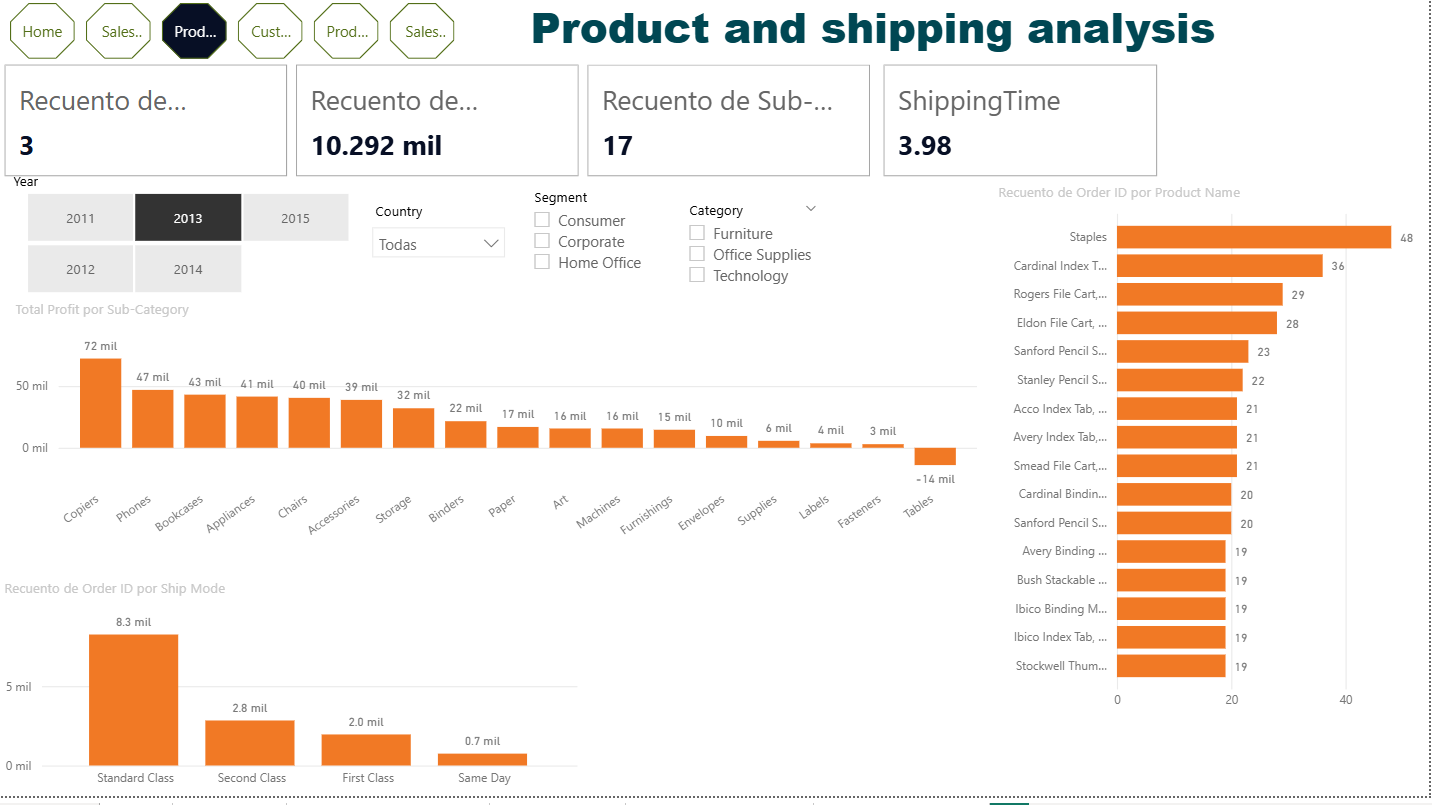

Layout of this report page (visuals, bound fields, positions):
{"tool":"powerbi","page":{"name":"Product and shipping analysis","canvas":[1280,720],"ordinal":2},"visuals":[{"type":"pageNavigator","box":[10,10,400,50],"z":0},{"type":"textbox","box":[471.2,0,629.9,158.7],"z":1000},{"type":"cardVisual","fields":{"Data":["Count(DIM_Product.Category)","CountNonNull(DIM_Product.Product_ID)","Count(DIM_Product.Sub-Category)"]},"box":[0,59.9,786.9,110.1],"z":2000},{"type":"cardVisual","fields":{"Data":["Avg(Fact_Sales.ShippimgTime)"]},"box":[786.9,59.9,255.8,110.1],"z":3000},{"type":"slicer","fields":{"Values":["Dim_SalesCalendar.Year"]},"box":[0,155.4,336.8,119.8],"z":4000},{"type":"barChart","fields":{"Category":["DIM_Product.Product Name"],"Y":["Count(Fact_Sales.Order ID)"]},"box":[890.6,170,390.2,480.9],"z":5000},{"type":"slicer","fields":{"Values":["DIM_Geo.Country"]},"box":[323.8,183,139.3,76.1],"z":5002},{"type":"slicer","fields":{"Values":["DIM_Customer.Segment"]},"box":[466.3,170,139.3,89.1],"z":5003},{"type":"columnChart","fields":{"Category":["DIM_Product.Sub-Category"],"Y":["DIM_Customer.Total Profit"]},"box":[9.7,275.3,871.1,225.1],"z":5004},{"type":"slicer","fields":{"Values":["DIM_Product.Category"]},"box":[605.6,181.4,139.3,106.9],"z":5005},{"type":"columnChart","fields":{"Category":["DIM_ShipMode.Ship Mode"],"Y":["CountNonNull(Fact_Sales.Order ID)"]},"box":[0,524.6,523,195.9],"z":5006}]}

Visuals, with their boxes in screenshot pixels (x1, y1, x2, y2), scaled from the page's 1280x720 canvas onto the 1432x805 screenshot:
pageNavigator: [11,11,459,67]
textbox: [527,0,1232,177]
cardVisual - Count(DIM_Product.Category) x CountNonNull(DIM_Product.Product_ID): [0,67,880,190]
cardVisual - Avg(Fact_Sales.ShippimgTime): [880,67,1167,190]
slicer - Dim_SalesCalendar.Year: [0,174,377,308]
barChart - DIM_Product.Product Name x Count(Fact_Sales.Order ID): [996,190,1431,728]
slicer - DIM_Geo.Country: [362,205,518,290]
slicer - DIM_Customer.Segment: [522,190,678,290]
columnChart - DIM_Product.Sub-Category x DIM_Customer.Total Profit: [11,308,985,559]
slicer - DIM_Product.Category: [678,203,833,322]
columnChart - DIM_ShipMode.Ship Mode x CountNonNull(Fact_Sales.Order ID): [0,587,585,804]
